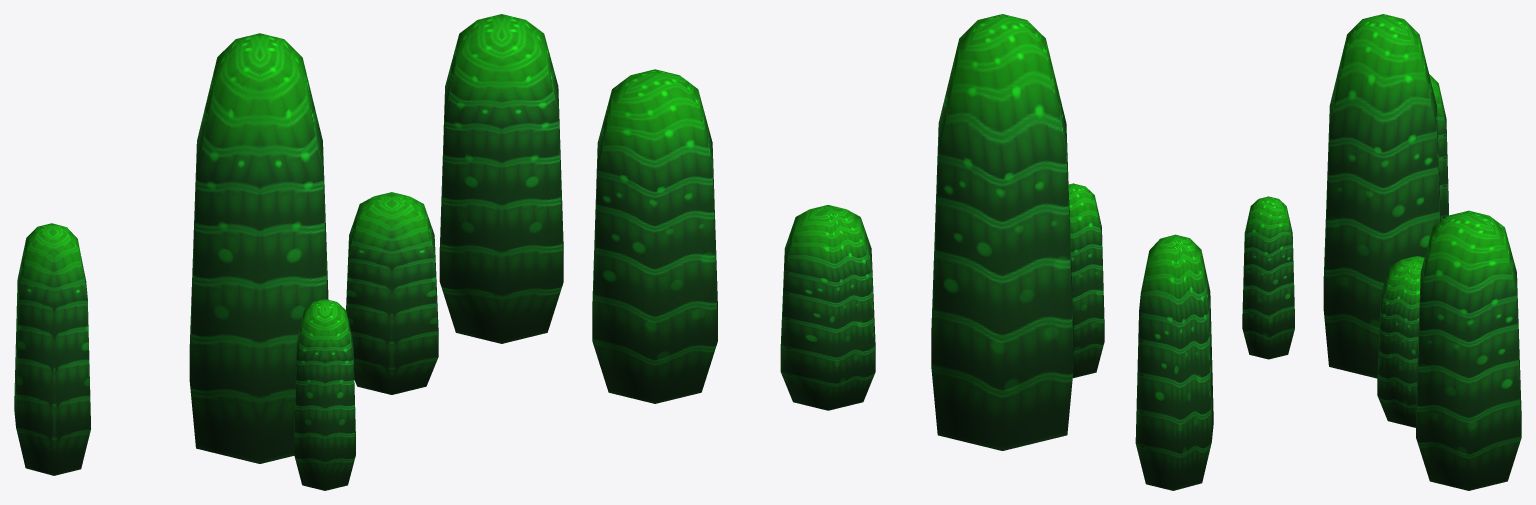
File: Coral_15b.FBX
The picture shows the model from 3 angles, left to right: view 1: azimuth 30°, elevation 25°; view 2: azimuth 150°, elevation 25°; view 3: azimuth 270°, elevation 25°; orthographic projection. The views are drawn at different scales.
Visible parts, largest first — view 1: Coral_15b; view 2: Coral_15b; view 3: Coral_15b.
Boxes of the visible parts, left/top/right/bottom form: Coral_15b: left=14, top=14, right=563, bottom=490; Coral_15b: left=592, top=14, right=1213, bottom=490; Coral_15b: left=1242, top=14, right=1521, bottom=490.
Size of the model in its own units: 46.54 by 30.43 by 22.86.
